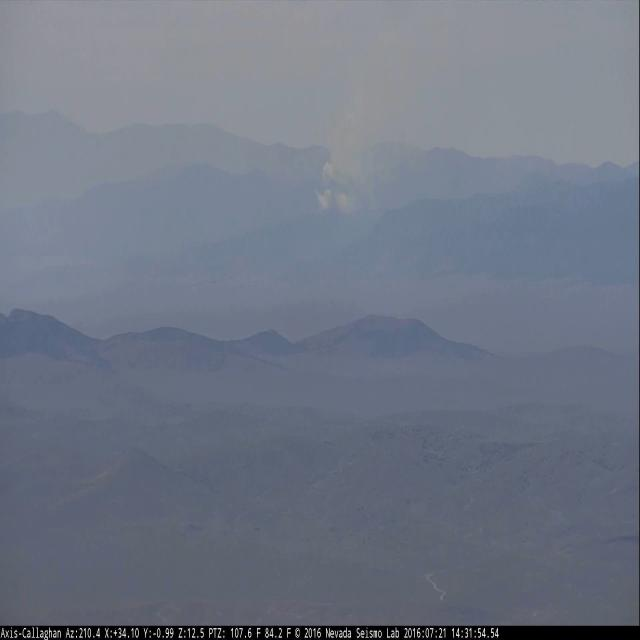smoke: (314, 22, 425, 220)
